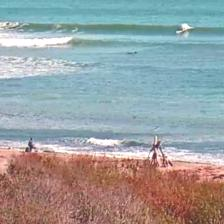surfer: (125, 51, 138, 55), (176, 27, 184, 32)
